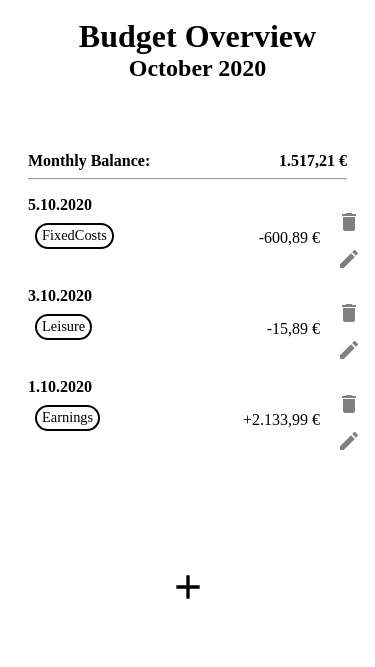
Test: Transaction Overview Page › delets a specific transaction
Expected: the number of list items is 3, [28,196,347,262]; [28,287,347,353]; [28,378,347,444]
What coordinates should you click on to do the following:
click the 5th button
I would click on:
 (349, 406)
Its box is [333,388,365,423].
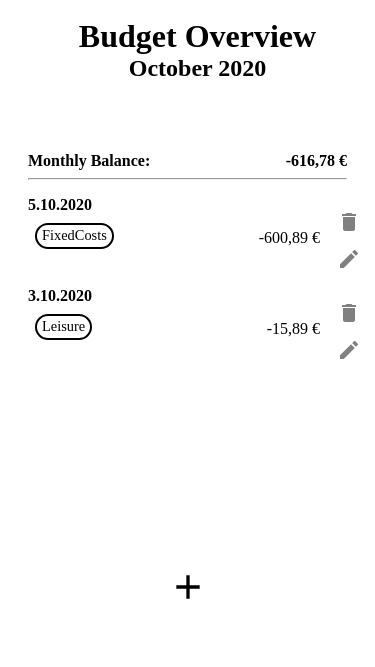
Expected: the text with test id "monthlyBudget" shows "-616,78", [286,152,347,169]
